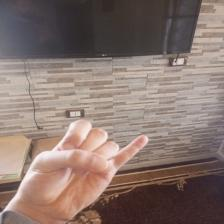five: (25, 118, 149, 215)
